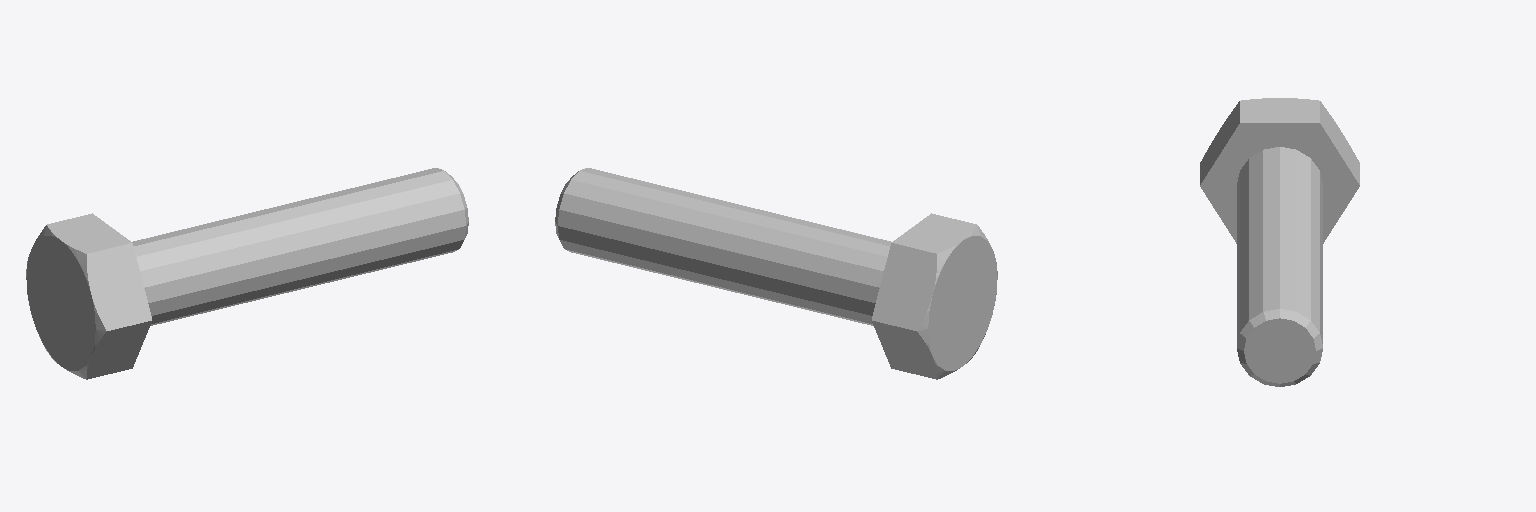
The model's file is Болт крепления демпфера.obj.
3 renders of one model, left to right at view 1: azimuth 30°, elevation 25°; view 2: azimuth 150°, elevation 25°; view 3: azimuth 270°, elevation 25°, orthographic.
Visible parts, largest first — view 1: Болт_крепления_демпфера_Болт_крепления_демпфера.001; view 2: Болт_крепления_демпфера_Болт_крепления_демпфера.001; view 3: Болт_крепления_демпфера_Болт_крепления_демпфера.001.
Part boxes in pixels (bbox=[...]): Болт_крепления_демпфера_Болт_крепления_демпфера.001: bbox=[26, 168, 468, 379]; Болт_крепления_демпфера_Болт_крепления_демпфера.001: bbox=[555, 168, 997, 379]; Болт_крепления_демпфера_Болт_крепления_демпфера.001: bbox=[1200, 98, 1359, 386].
Size of the model in its own units: 51.85 by 16 by 18.48.